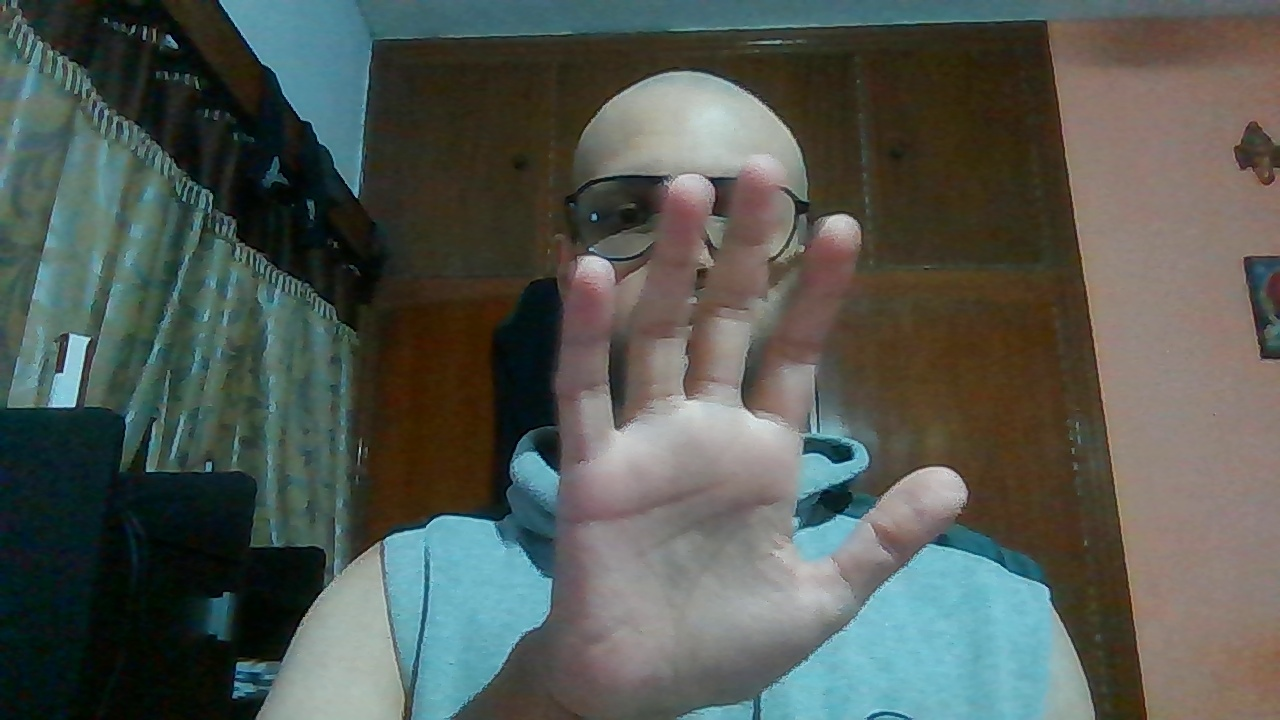Hello: (550, 154, 970, 694)
